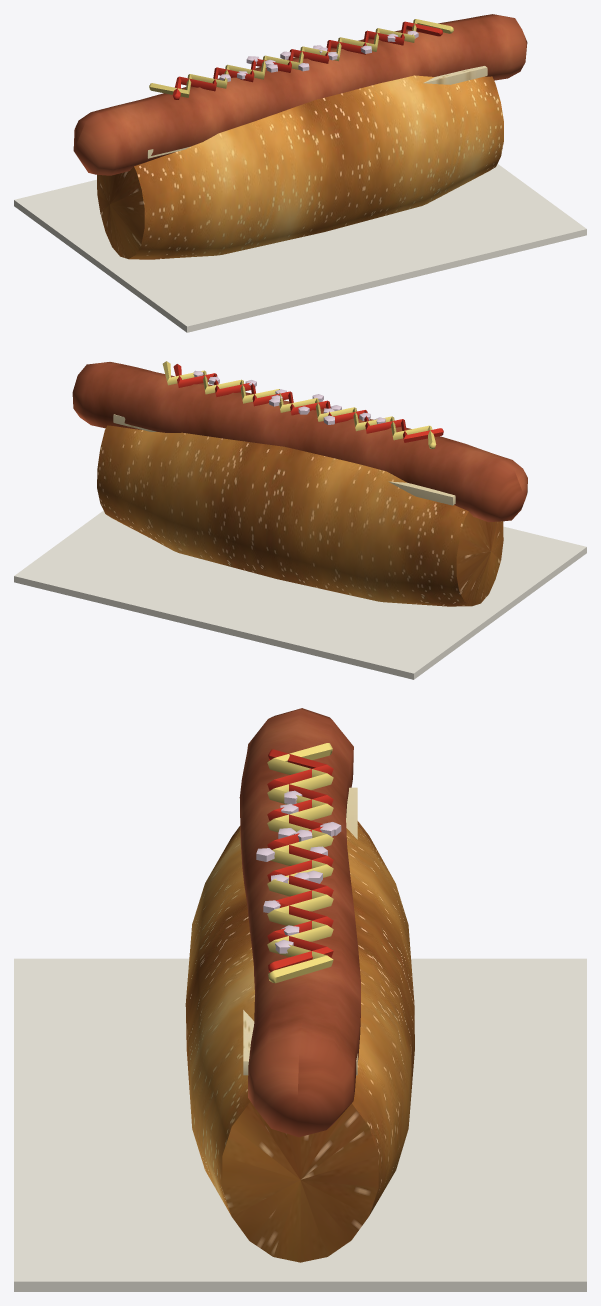
File: meal_hot_dog_mustard.glb
3 renders of one model, top to bottom at view 1: azimuth 30°, elevation 25°; view 2: azimuth 150°, elevation 25°; view 3: azimuth 270°, elevation 25°, orthographic. The views are drawn at different scales.
Visible parts, largest first — view 1: meal_hot_dog_mustard; view 2: meal_hot_dog_mustard; view 3: meal_hot_dog_mustard.
Boxes of the visible parts, <box> form: meal_hot_dog_mustard: <box>14,14,586,332</box>; meal_hot_dog_mustard: <box>14,361,586,679</box>; meal_hot_dog_mustard: <box>14,708,586,1291</box>.
Bounding box in the file's own units: 0.226 × 0.0878 × 0.15.
7 materials, 3 textured.
